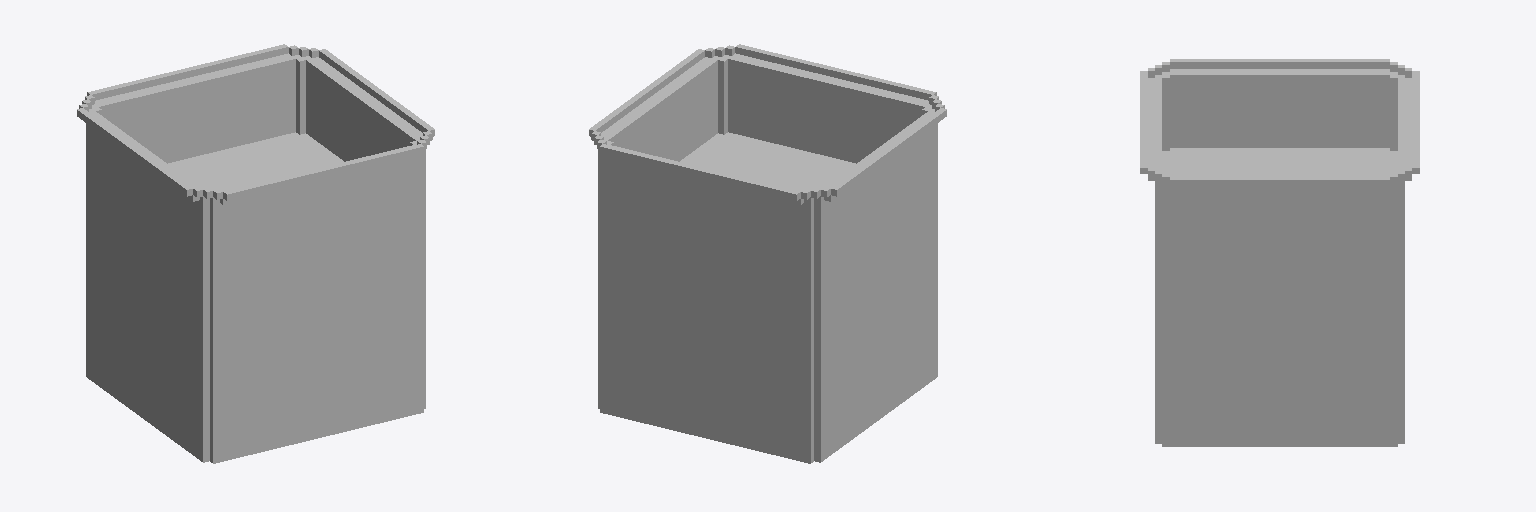
File: Flower pot.obj
3 renders of one model, left to right at view 1: azimuth 30°, elevation 25°; view 2: azimuth 150°, elevation 25°; view 3: azimuth 270°, elevation 25°, orthographic.
Visible parts, largest first — view 1: object 1; view 2: object 1; view 3: object 1.
Part boxes in pixels (bbox=[...]): object 1: bbox=[77, 44, 434, 463]; object 1: bbox=[589, 44, 946, 463]; object 1: bbox=[1140, 59, 1419, 446].
Bounding box in the file's own units: 3.9 × 4.1 × 3.8.